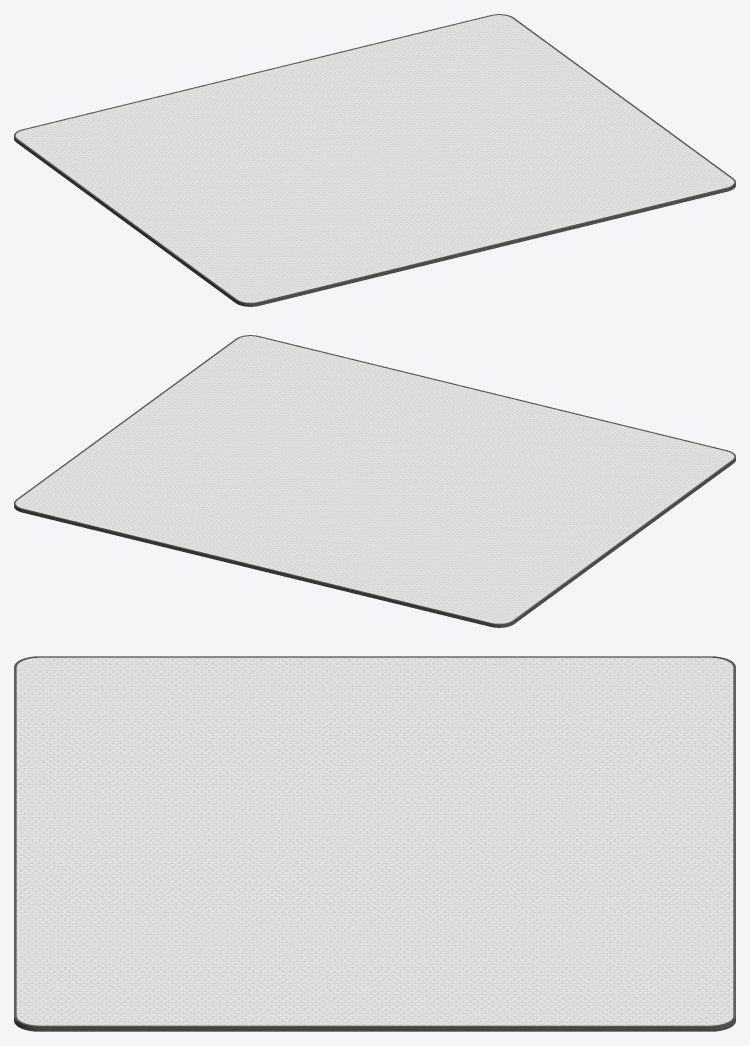
File: MOb_Rug_002_17x14.fbx
3 renders of one model, top to bottom at view 1: azimuth 30°, elevation 25°; view 2: azimuth 150°, elevation 25°; view 3: azimuth 270°, elevation 25°, orthographic. The views are drawn at different scales.
Parts seen in each view (by area): view 1: MOb_Rug_002_17x14; view 2: MOb_Rug_002_17x14; view 3: MOb_Rug_002_17x14.
Part boxes in pixels (left/top/right/bottom): MOb_Rug_002_17x14: left=14, top=14, right=735, bottom=306; MOb_Rug_002_17x14: left=14, top=335, right=735, bottom=627; MOb_Rug_002_17x14: left=14, top=656, right=735, bottom=1031.
Size of the model in its own units: 17 by 0.11 by 14.
